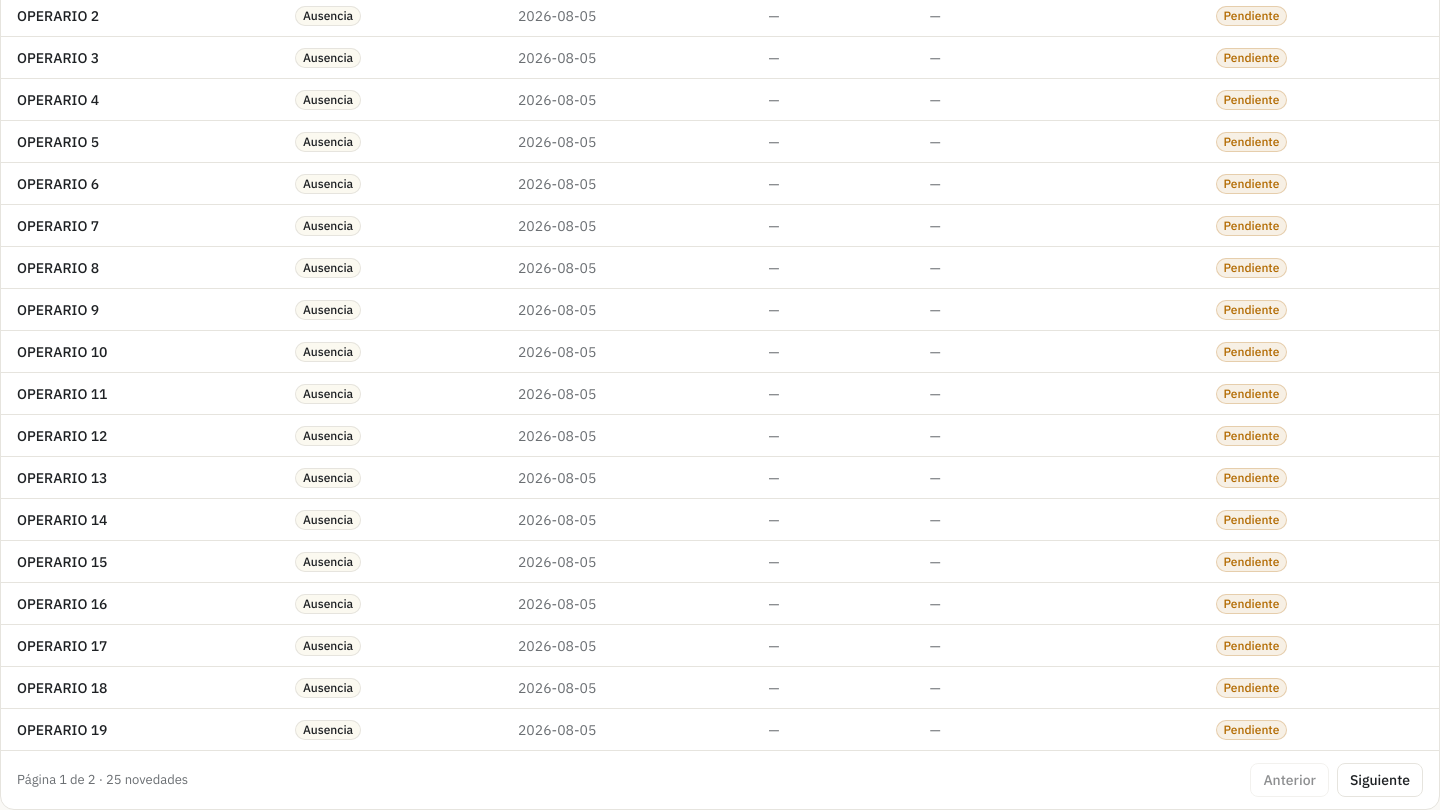
NovedadesPage › Paginación › Siguiente muestra el resto
This screenshot has width=1440, height=810.
(page scrolled)
Click the button "Siguiente": x=1380, y=780 [1337,763,1423,797]
(page scrolled)
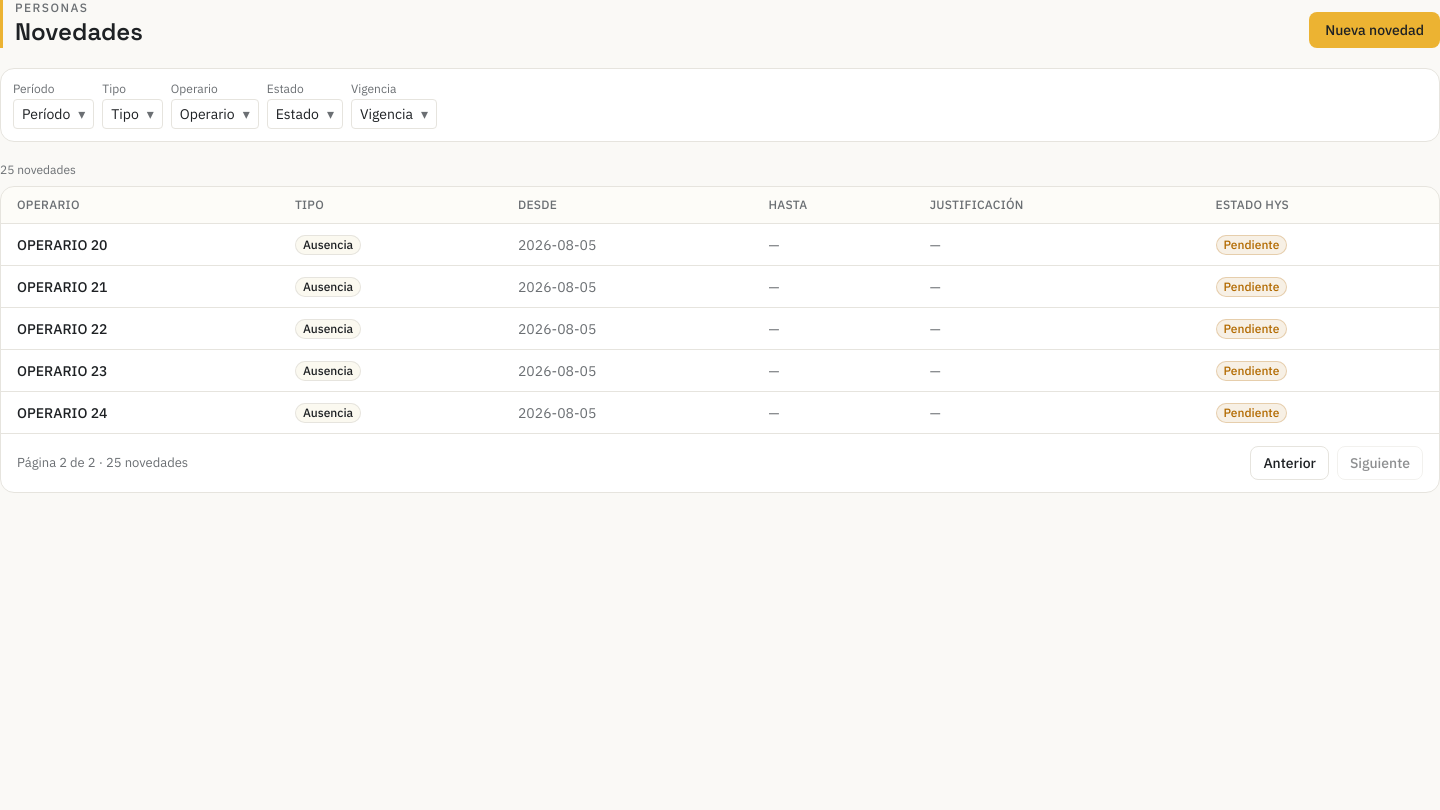
Expected: the text "OPERARIO 24" is shown, [17,404,108,422]
Expected: the text "Página 2 de 2 · 25 novedades" is shown, [17,453,188,473]
